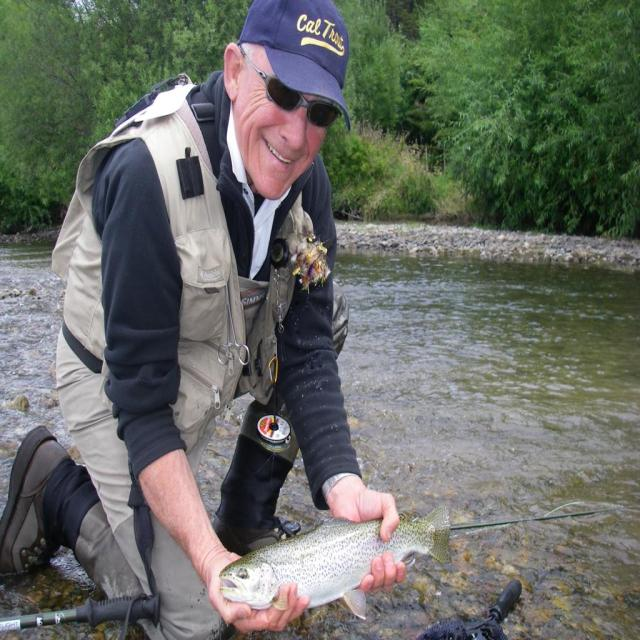Face: (242, 40, 335, 216)
